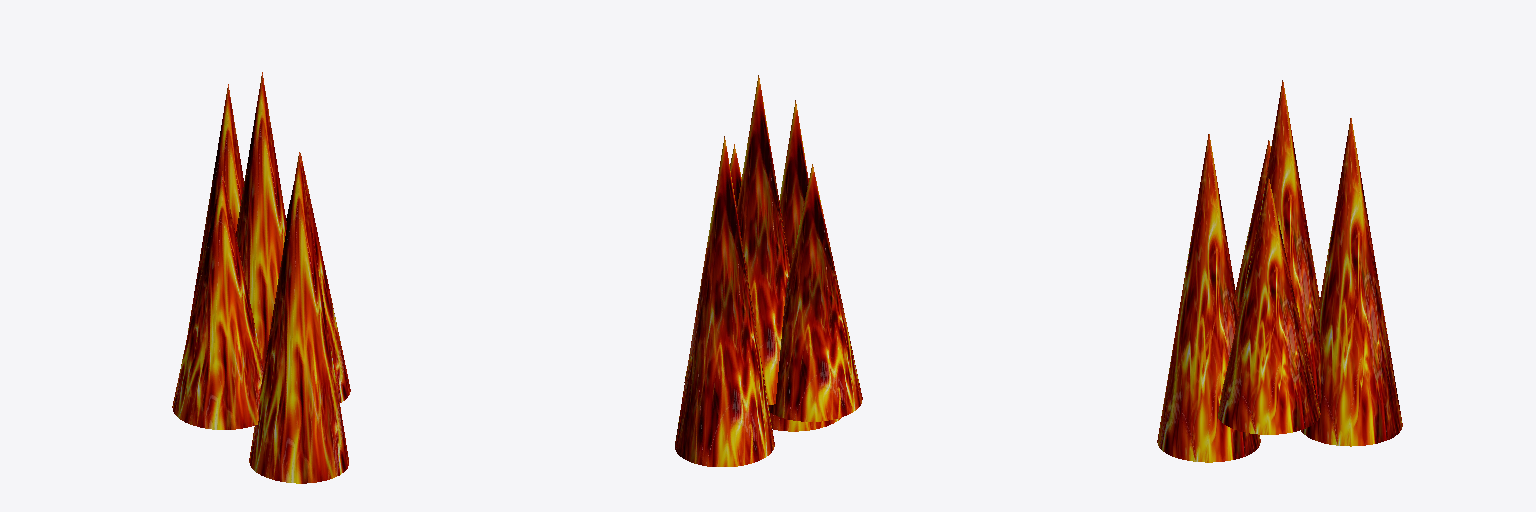
3 renders of one model, left to right at view 1: azimuth 30°, elevation 25°; view 2: azimuth 150°, elevation 25°; view 3: azimuth 270°, elevation 25°, orthographic.
Parts seen in each view (by area): view 1: Cone; view 2: Cone; view 3: Cone.
Boxes of the visible parts, <box> form: Cone: <box>172,72,350,483</box>; Cone: <box>675,75,862,466</box>; Cone: <box>1157,80,1402,462</box>.
Size of the model in its own units: 1.1 by 2.34 by 1.43.
5 materials, 1 textured.